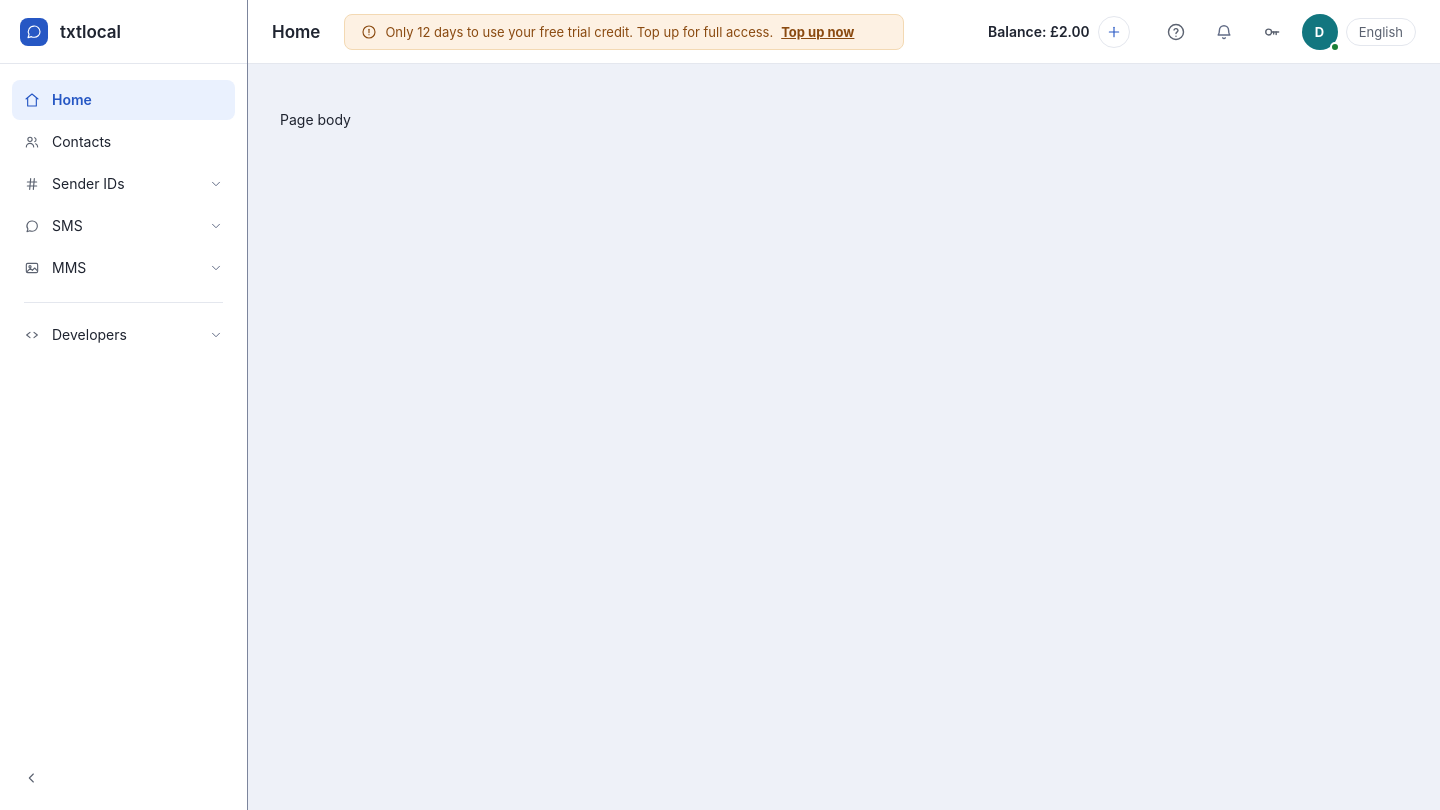
Scenario: AvatarMenu › opens the avatar menu with the user id and the account pages
The width and height of the screenshot is (1440, 810).
Step 1. Click the heading named "Account menu" → (1320, 32), box 1302,14 -> 1338,50
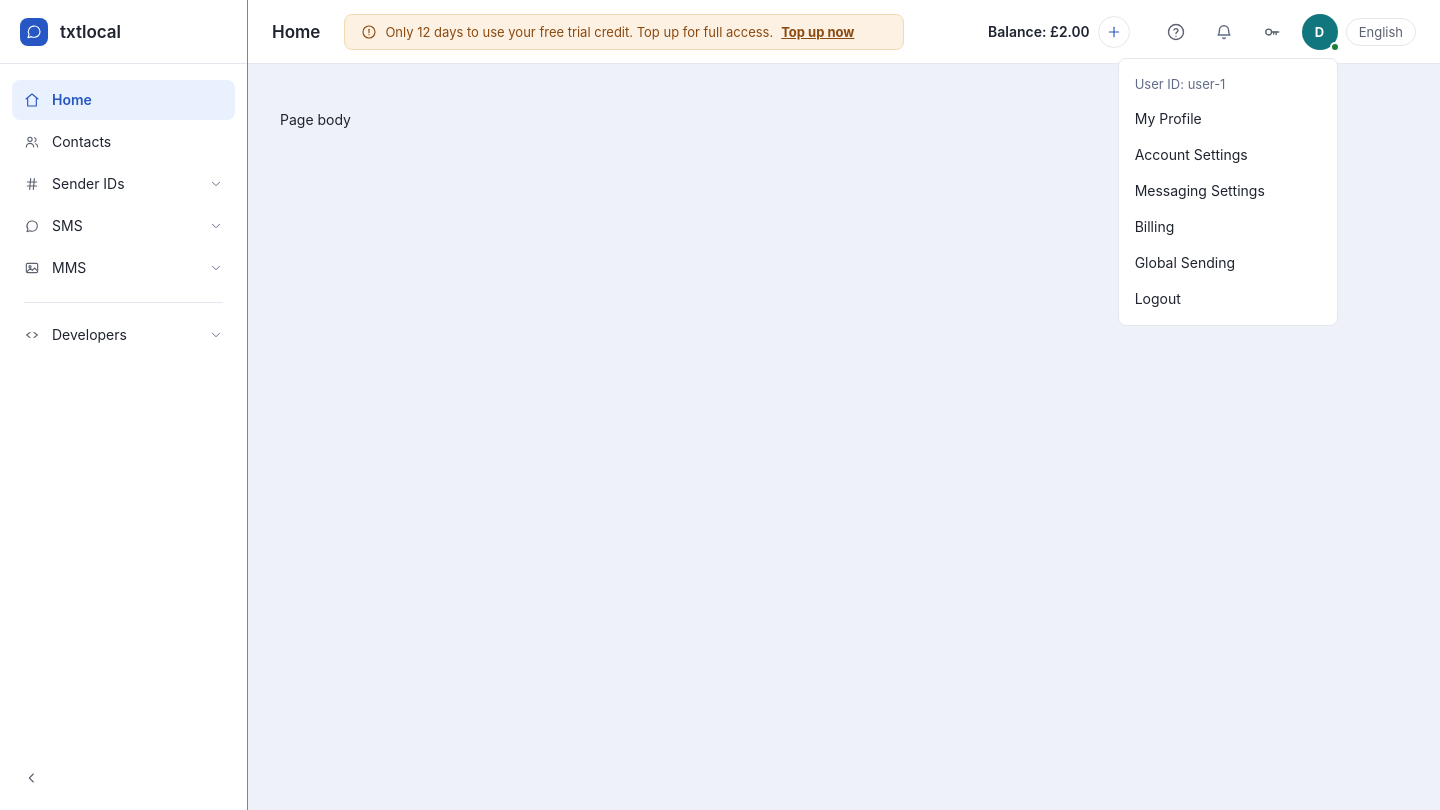
Result: the list item "User ID: user-1" is shown at 1135,76 -> 1225,92
Result: the link "My Profile" is shown at 1135,110 -> 1202,126
Result: the link "Account Settings" is shown at 1135,146 -> 1248,162
